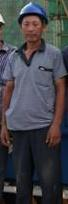boots: (0, 189, 9, 203)
hard-hat: (18, 2, 48, 25)
